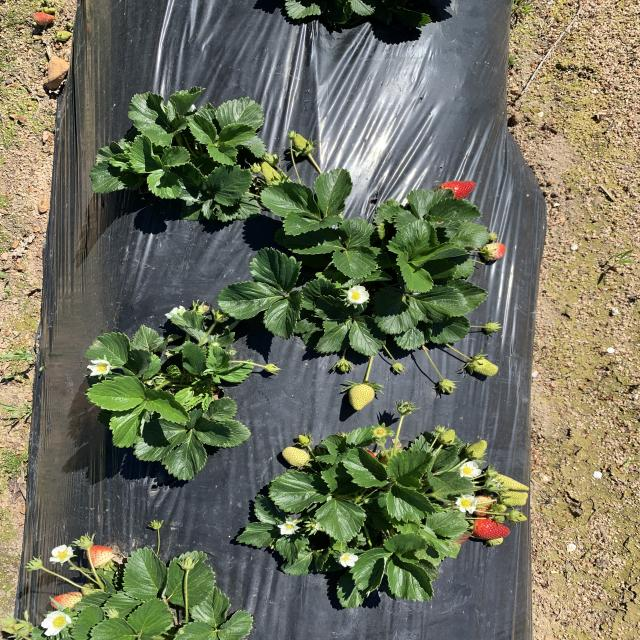unripe: (437, 174, 480, 202), (470, 515, 513, 543)
